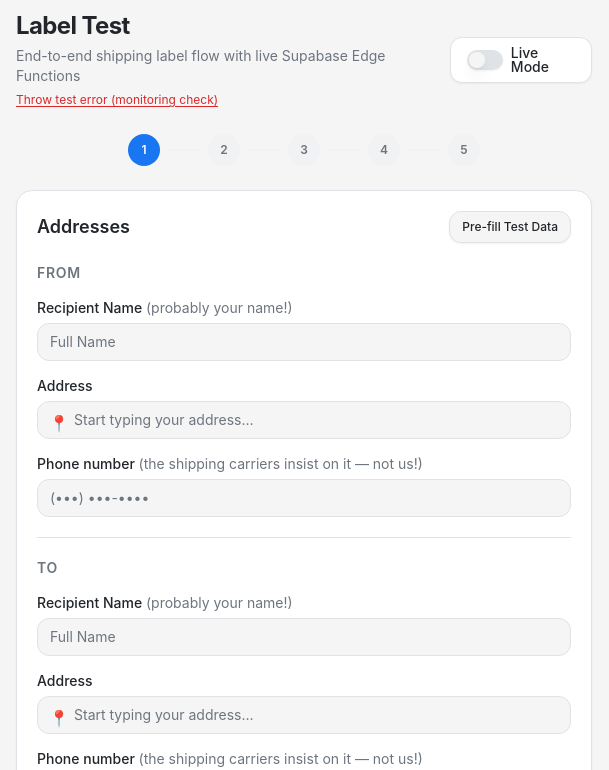
it: LabelTest page › shows Verified badge after selecting a suggestion
Type "925 dean" into the field with placeholder "Start typing your address…" below "From". click: (304,420)
box: [37,401,571,439]
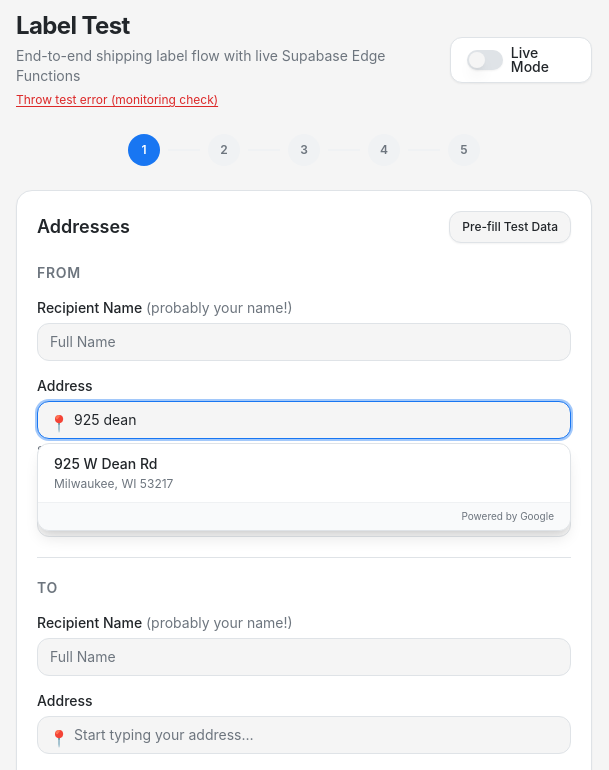
Check: the text "925 W Dean Rd" is shown
// Click the suggestion
Click the text "925 W Dean Rd". click: (106,464)
box: [54,455,158,472]
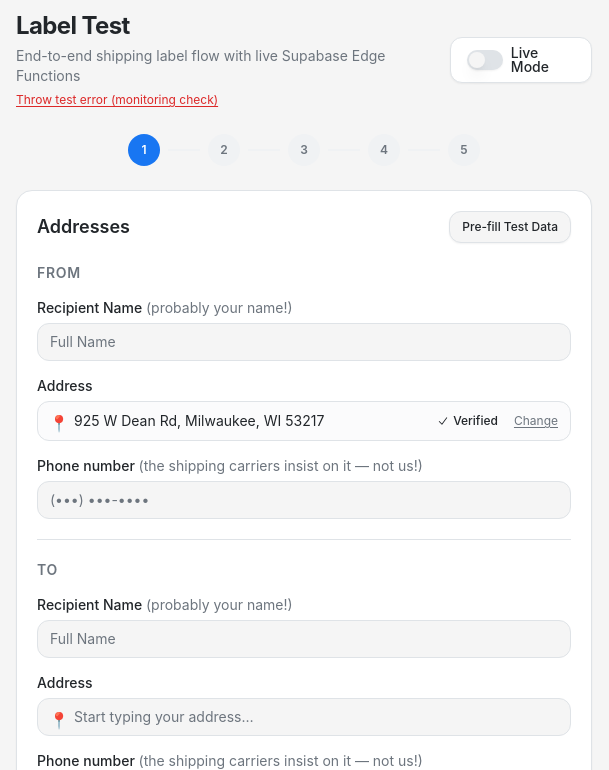
Check: the text "Verified" is shown, box [437,413,498,428]
Check: the text "925 W Dean Rd, Milwaukee, WI 53217" is shown, box [74,411,324,431]
